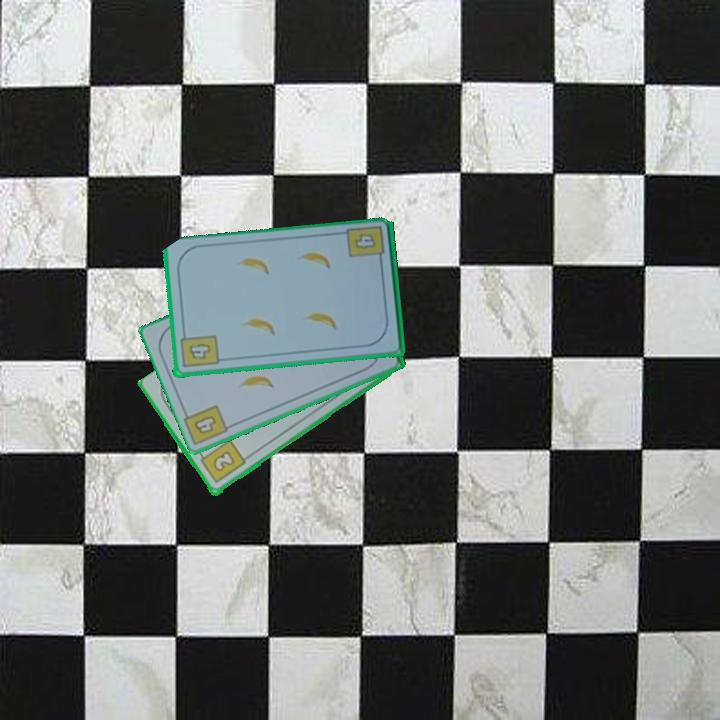2b: (195, 437, 249, 486)
4b: (343, 223, 388, 267), (176, 328, 221, 371), (190, 412, 219, 437)
